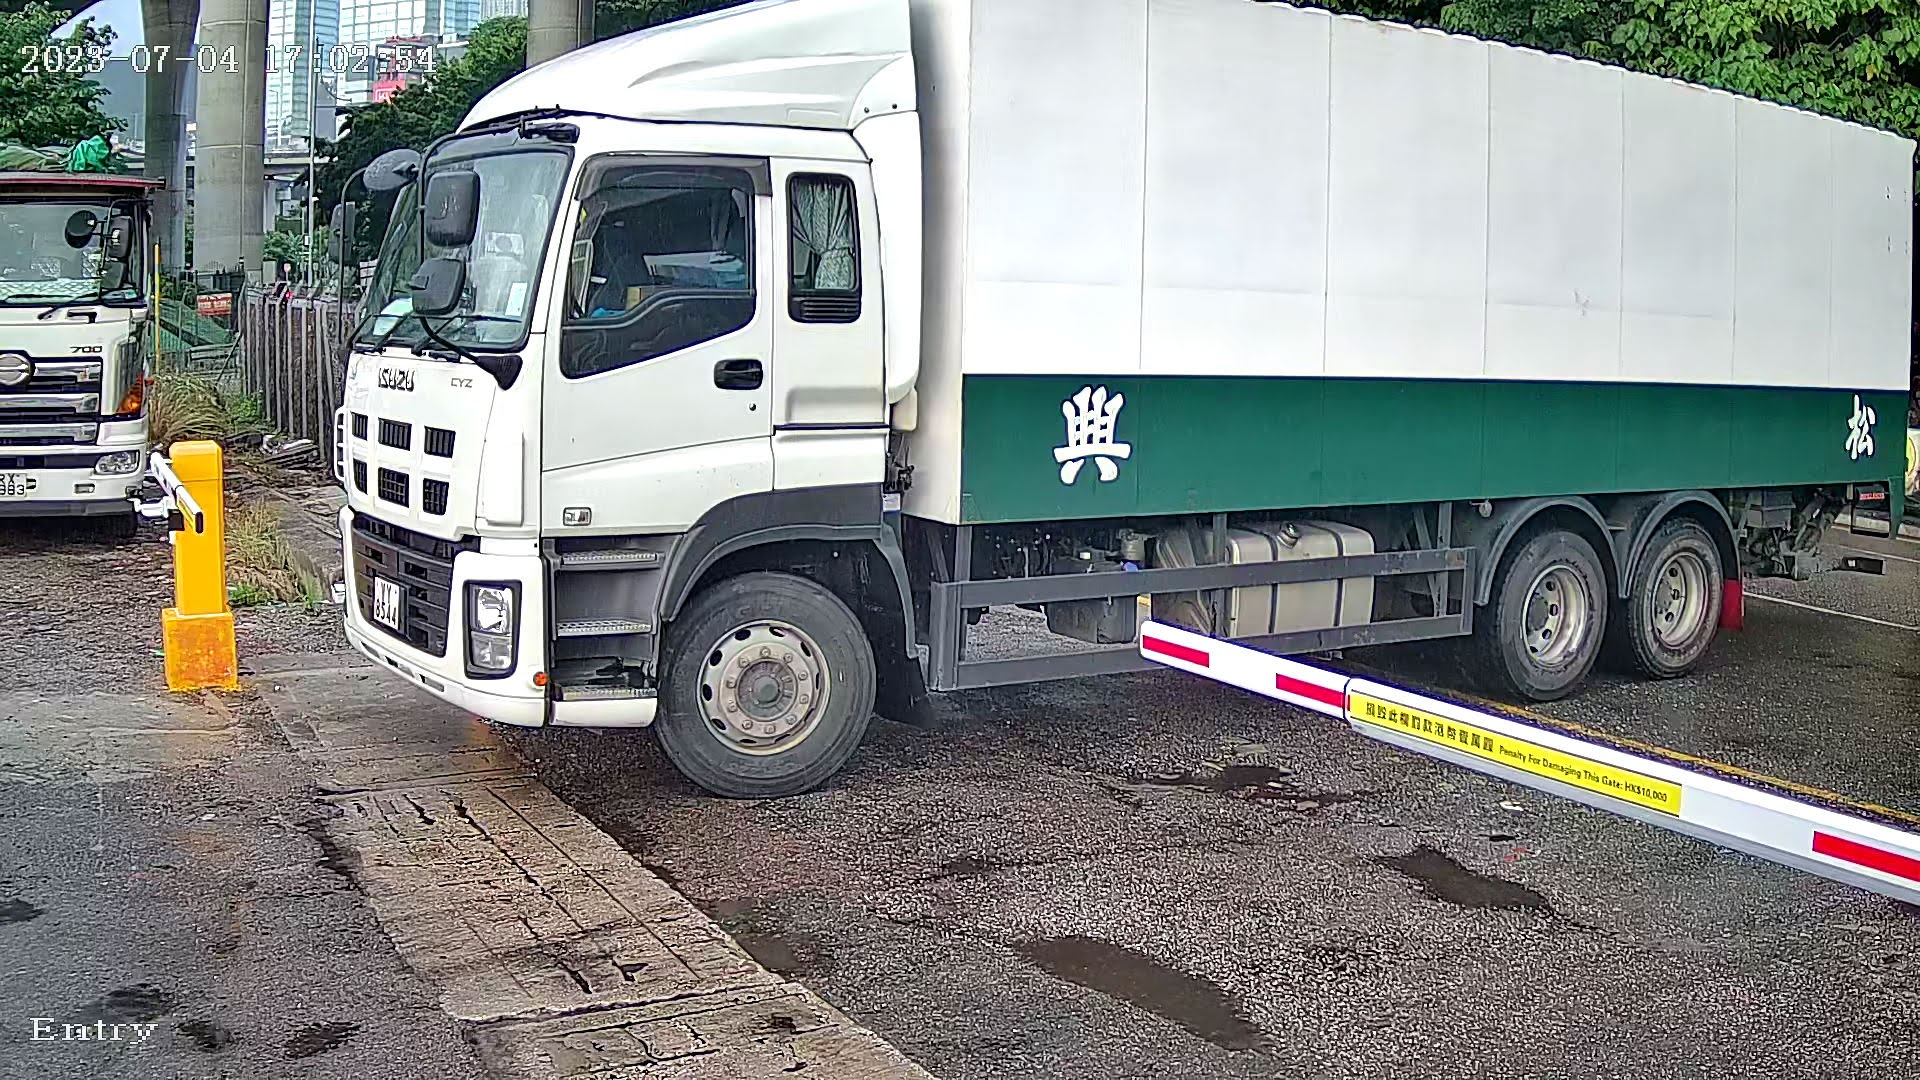truck_large: (315, 1, 1909, 793)
